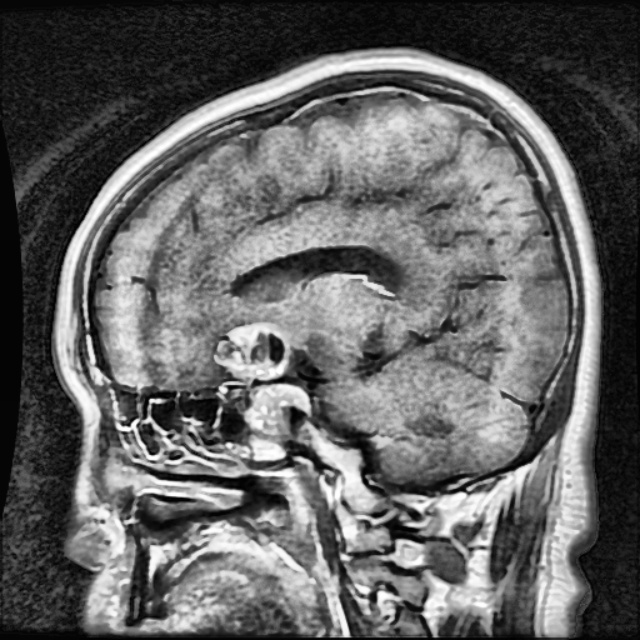Pituitary: (217, 320, 310, 434)
